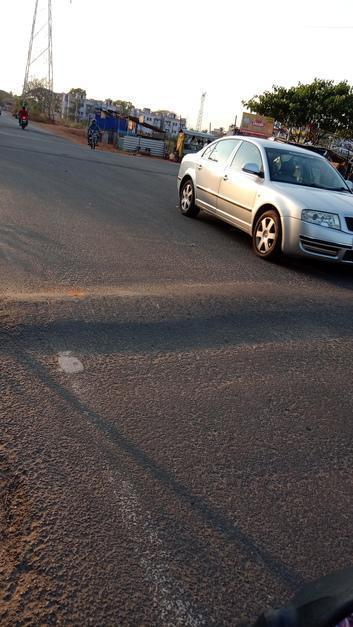speedbreaker: (1, 284, 353, 342)
